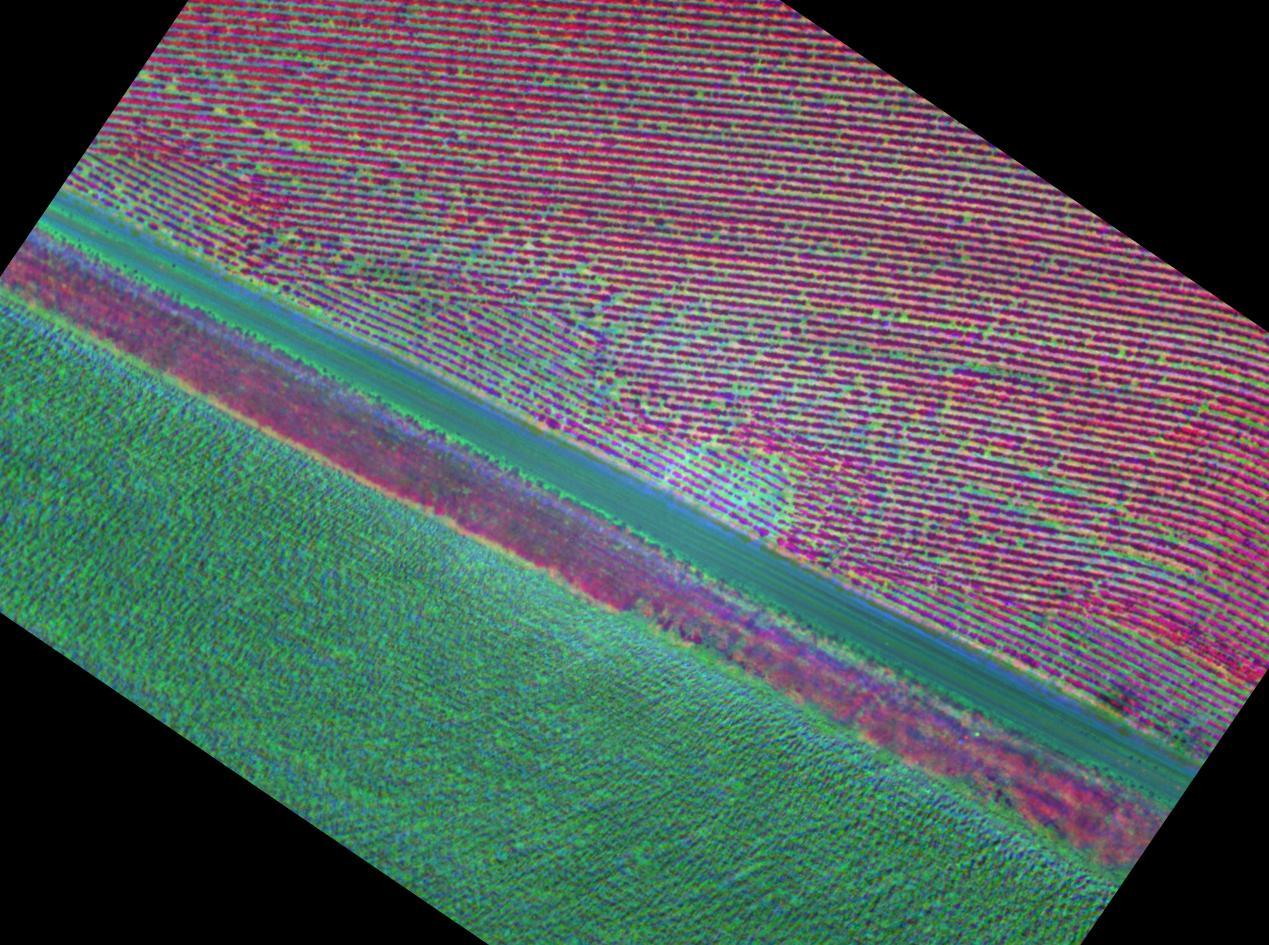dc: (577, 265, 585, 271), (296, 142, 302, 147), (873, 313, 878, 318), (168, 87, 173, 92), (460, 132, 464, 136), (713, 238, 717, 242), (807, 305, 811, 309), (902, 317, 906, 321), (772, 456, 776, 460), (172, 190, 175, 195), (882, 389, 885, 394), (950, 324, 953, 328), (873, 423, 876, 427), (720, 469, 724, 472), (459, 67, 462, 71), (108, 177, 111, 180), (130, 201, 133, 204)
